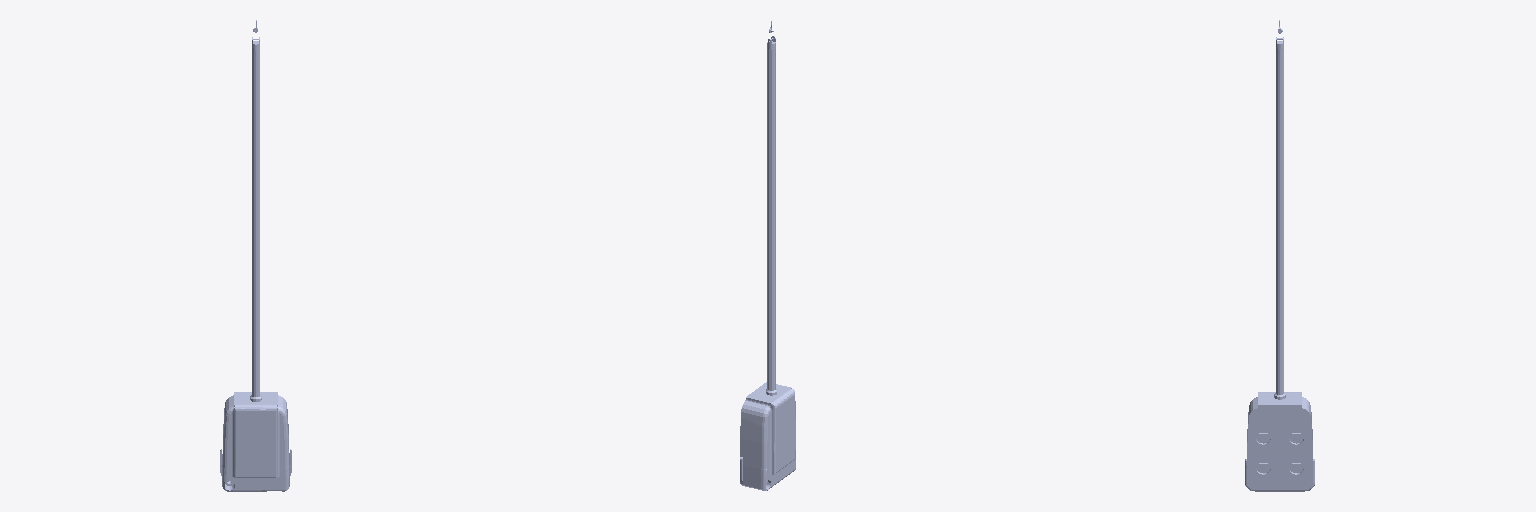
The robot description file, URDF, robot "tool_lnd":
<robot
  name="tool_lnd">
  <link
    name="tool_main_link">
    <inertial>
      <origin
        xyz="0.00152807921185497 -0.000126939120532178 0.0138479507815198"
        rpy="0 0 0" />
      <mass
        value="0.193727961900235" />
      <inertia
        ixx="0"
        ixy="0"
        ixz="0"
        iyy="0"
        iyz="0"
        izz="0" />
    </inertial>
    <visual>
      <origin
        xyz="0 0 0"
        rpy="0 0 0" />
      <geometry>
        <mesh
          filename="package://dvrk_model/Tool_LND/meshes/tool_main_link.STL" />
      </geometry>
      <material
        name="">
        <color
          rgba="0.796078431372549 0.823529411764706 0.937254901960784 1" />
      </material>
    </visual>
    <collision>
      <origin
        xyz="0 0 0"
        rpy="0 0 0" />
      <geometry>
        <mesh
          filename="package://dvrk_model/Tool_LND/meshes/tool_main_link.STL" />
      </geometry>
    </collision>
  </link>
  <link
    name="tool_roll_link">
    <inertial>
      <origin
        xyz="-3.40772311467272E-06 -1.09585930850586E-08 0.00345740540836414"
        rpy="0 0 0" />
      <mass
        value="0.000342893775775674" />
      <inertia
        ixx="3.49788101814612E-10"
        ixy="1.28329906023435E-17"
        ixz="6.6077244420398E-12"
        iyy="3.49912926019935E-10"
        iyz="-6.7933029937245E-16"
        izz="1.24824207962126E-13" />
    </inertial>
    <visual>
      <origin
        xyz="0 0 0"
        rpy="0 0 0" />
      <geometry>
        <mesh
          filename="package://dvrk_model/Tool_LND/meshes/tool_roll_link.STL" />
      </geometry>
      <material
        name="">
        <color
          rgba="0.796078431372549 0.823529411764706 0.937254901960784 1" />
      </material>
    </visual>
    <collision>
      <origin
        xyz="0 0 0"
        rpy="0 0 0" />
      <geometry>
        <mesh
          filename="package://dvrk_model/Tool_LND/meshes/tool_roll_link.STL" />
      </geometry>
    </collision>
  </link>
  <joint
    name="tool_roll_joint"
    type="continuous">
    <origin
      xyz="0 0 0.4071"
      rpy="0 0 1.5707963267949" />
    <parent
      link="tool_main_link" />
    <child
      link="tool_roll_link" />
    <axis
      xyz="0 0 1" />
  </joint>
  <link
    name="tool_pitch_link">
    <inertial>
      <origin
        xyz="-0.00372944363842065 0.000200069305450416 5.07548076205981E-05"
        rpy="0 0 0" />
      <mass
        value="0.000249121193515496" />
      <inertia
        ixx="0"
        ixy="0"
        ixz="0"
        iyy="0"
        iyz="0"
        izz="0" />
    </inertial>
    <visual>
      <origin
        xyz="0 0 0"
        rpy="0 0 0" />
      <geometry>
        <mesh
          filename="package://dvrk_model/Tool_LND/meshes/tool_pitch_link.STL" />
      </geometry>
      <material
        name="">
        <color
          rgba="0.796078431372549 0.823529411764706 0.937254901960784 1" />
      </material>
    </visual>
    <collision>
      <origin
        xyz="0 0 0"
        rpy="0 0 0" />
      <geometry>
        <mesh
          filename="package://dvrk_model/Tool_LND/meshes/tool_pitch_link.STL" />
      </geometry>
    </collision>
  </link>
  <joint
    name="tool_pitch_joint"
    type="continuous">
    <origin
      xyz="0 0 0.00910000000000002"
      rpy="1.5707963267949 1.5707963267949 0" />
    <parent
      link="tool_roll_link" />
    <child
      link="tool_pitch_link" />
    <axis
      xyz="0 1 0" />
  </joint>
  <link
    name="tool_yaw_link">
    <inertial>
      <origin
        xyz="0 0 -0.000100000000000025"
        rpy="0 0 0" />
      <mass
        value="6.63661448070839E-06" />
      <inertia
        ixx="0"
        ixy="0"
        ixz="0"
        iyy="0"
        iyz="0"
        izz="0" />
    </inertial>
    <visual>
      <origin
        xyz="0 0 0"
        rpy="0 0 0" />
      <geometry>
        <mesh
          filename="package://dvrk_model/Tool_LND/meshes/tool_yaw_link.STL" />
      </geometry>
      <material
        name="">
        <color
          rgba="0.796078431372549 0.823529411764706 0.937254901960784 1" />
      </material>
    </visual>
    <collision>
      <origin
        xyz="0 0 0"
        rpy="0 0 0" />
      <geometry>
        <mesh
          filename="package://dvrk_model/Tool_LND/meshes/tool_yaw_link.STL" />
      </geometry>
    </collision>
  </link>
  <joint
    name="tool_yaw_joint"
    type="continuous">
    <origin
      xyz="-0.0091 0.000199999999999992 0"
      rpy="-3.14159265358979 -4.99406881401635E-16 1.28567744673266" />
    <parent
      link="tool_pitch_link" />
    <child
      link="tool_yaw_link" />
    <axis
      xyz="0 0 1" />
  </joint>
  <link
    name="gripper1_link">
    <inertial>
      <origin
        xyz="-0.000188736724875568 0.00135264310276204 0.00085694646319168"
        rpy="0 0 0" />
      <mass
        value="3.90695979761286E-05" />
      <inertia
        ixx="0"
        ixy="0"
        ixz="0"
        iyy="0"
        iyz="0"
        izz="0" />
    </inertial>
    <visual>
      <origin
        xyz="0 0 0"
        rpy="0 0 0" />
      <geometry>
        <mesh
          filename="package://dvrk_model/Tool_LND/meshes/gripper1_link.STL" />
      </geometry>
      <material
        name="">
        <color
          rgba="0.796078431372549 0.823529411764706 0.937254901960784 1" />
      </material>
    </visual>
    <collision>
      <origin
        xyz="0 0 0"
        rpy="0 0 0" />
      <geometry>
        <mesh
          filename="package://dvrk_model/Tool_LND/meshes/gripper1_link.STL" />
      </geometry>
    </collision>
  </link>
  <joint
    name="gripper1_joint"
    type="continuous">
    <origin
      xyz="0 0 0"
      rpy="2.56706827831286E-16 -5.82756799938937E-16 2.85647377352755" />
    <parent
      link="tool_yaw_link" />
    <child
      link="gripper1_link" />
    <axis
      xyz="0 0 1" />
  </joint>
  <link
    name="gripper2_link">
    <inertial>
      <origin
        xyz="-0.000188736724875578 0.00135264310276204 0.000966946463191687"
        rpy="0 0 0" />
      <mass
        value="3.90695979761289E-05" />
      <inertia
        ixx="0"
        ixy="0"
        ixz="0"
        iyy="0"
        iyz="0"
        izz="0" />
    </inertial>
    <visual>
      <origin
        xyz="0 0 0"
        rpy="0 0 0" />
      <geometry>
        <mesh
          filename="package://dvrk_model/Tool_LND/meshes/gripper2_link.STL" />
      </geometry>
      <material
        name="">
        <color
          rgba="0.796078431372549 0.823529411764706 0.937254901960784 1" />
      </material>
    </visual>
    <collision>
      <origin
        xyz="0 0 0"
        rpy="0 0 0" />
      <geometry>
        <mesh
          filename="package://dvrk_model/Tool_LND/meshes/gripper2_link.STL" />
      </geometry>
    </collision>
  </link>
  <joint
    name="gripper2_joint"
    type="continuous">
    <origin
      xyz="0 0 0"
      rpy="3.14159265358979 -2.43964166529459E-17 -0.28511888006224" />
    <parent
      link="tool_yaw_link" />
    <child
      link="gripper2_link" />
    <axis
      xyz="0 0 -1" />
  </joint>
</robot>

--- Render facts (derived) ---
Views: 3 orthographic renders of the robot side by side, from view 1: azimuth 90°, elevation 25°; view 2: azimuth 150°, elevation 25°; view 3: azimuth 270°, elevation 25°.
Model tool_lnd with 6 links and 5 joints (5 continuous), rooted at tool_main_link, posed every joint at zero.
Visible links, largest first — view 1: tool_main_link; view 2: tool_main_link; view 3: tool_main_link.
Link boxes in pixels (x1,y1,x2,y2): tool_main_link: (220,49,291,491); tool_main_link: (740,48,795,490); tool_main_link: (1245,49,1314,491).
Bounding box of the posed robot: 0.033 × 0.0682 × 0.4928 m (x, y, z).
4 mesh visuals loaded from 6 distinct referenced files (4 binary STL); not drawn: 2 (reference not matched to a file when rendering).
